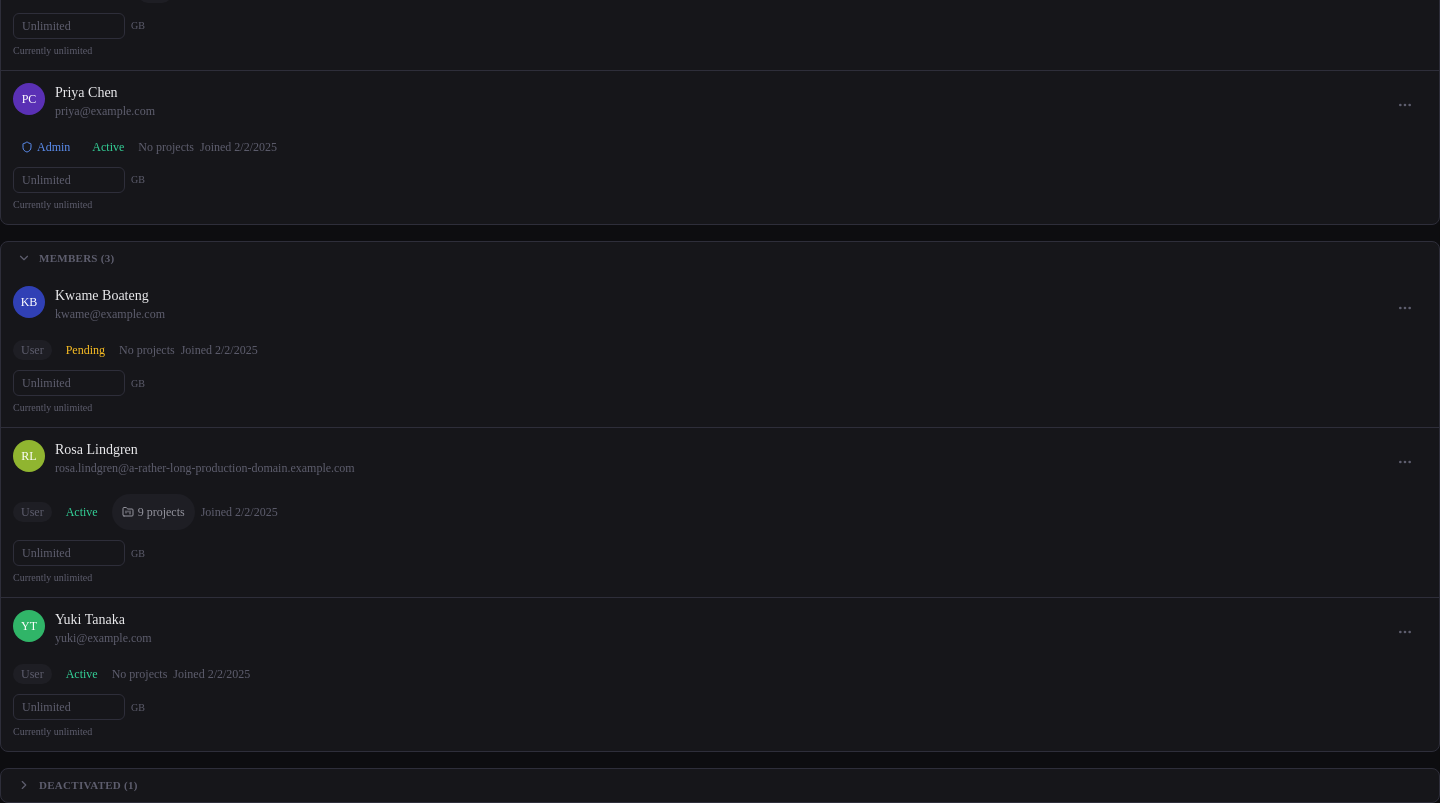
Scenario: every action the table row had is reachable from the card › Reactivate and Delete — for a deactivated user
(page scrolled)
Expected: the text "Rosa Lindgren" is shown, [55, 442, 138, 457]
Click the button "Deactivated (1)" at point(80, 785), box [17, 777, 1423, 794]
(page scrolled)
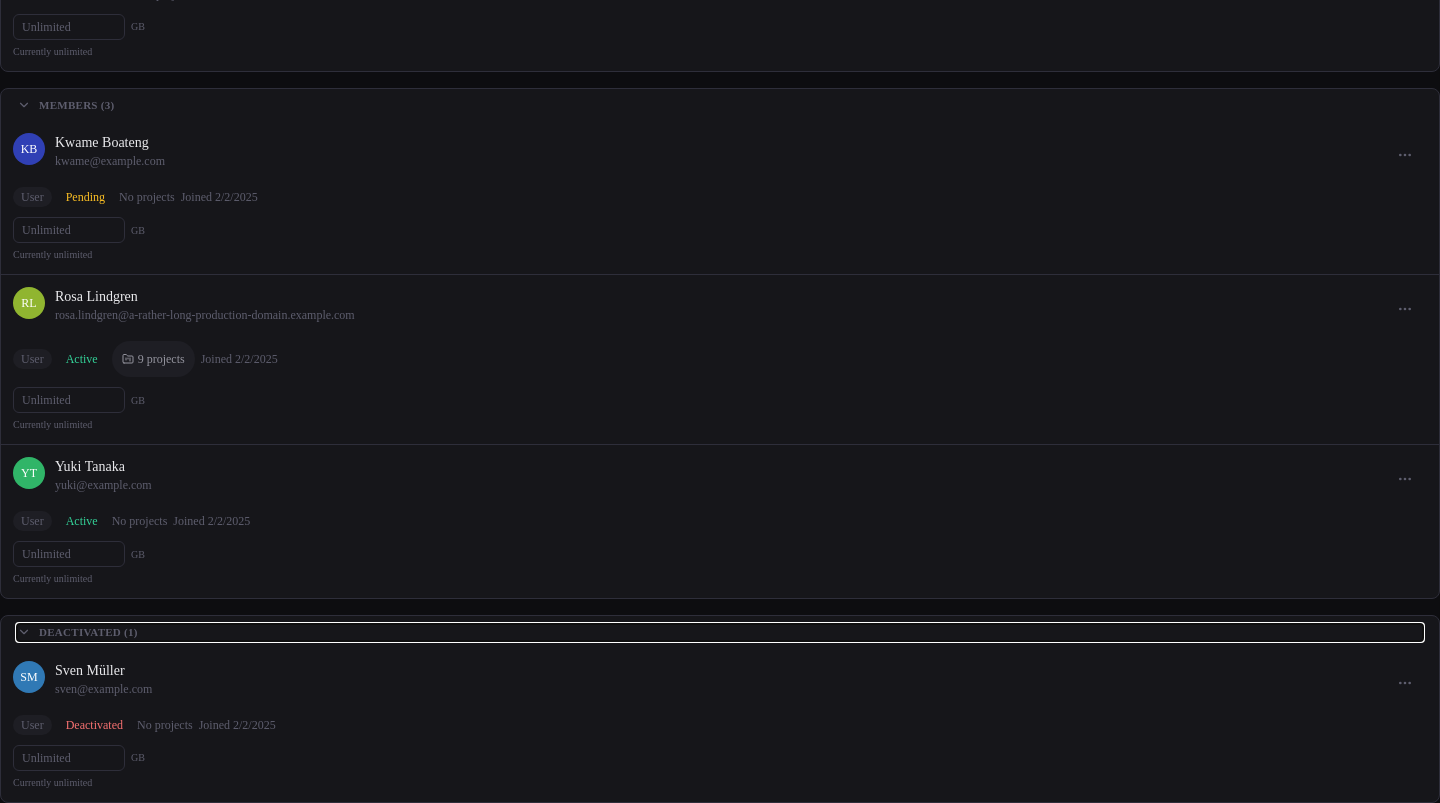
Expected: the text "Sven Müller" is shown, [55, 662, 125, 678]
Click the 4th button with test id "user-card-menu" at point(1405, 682), box [1383, 660, 1427, 704]
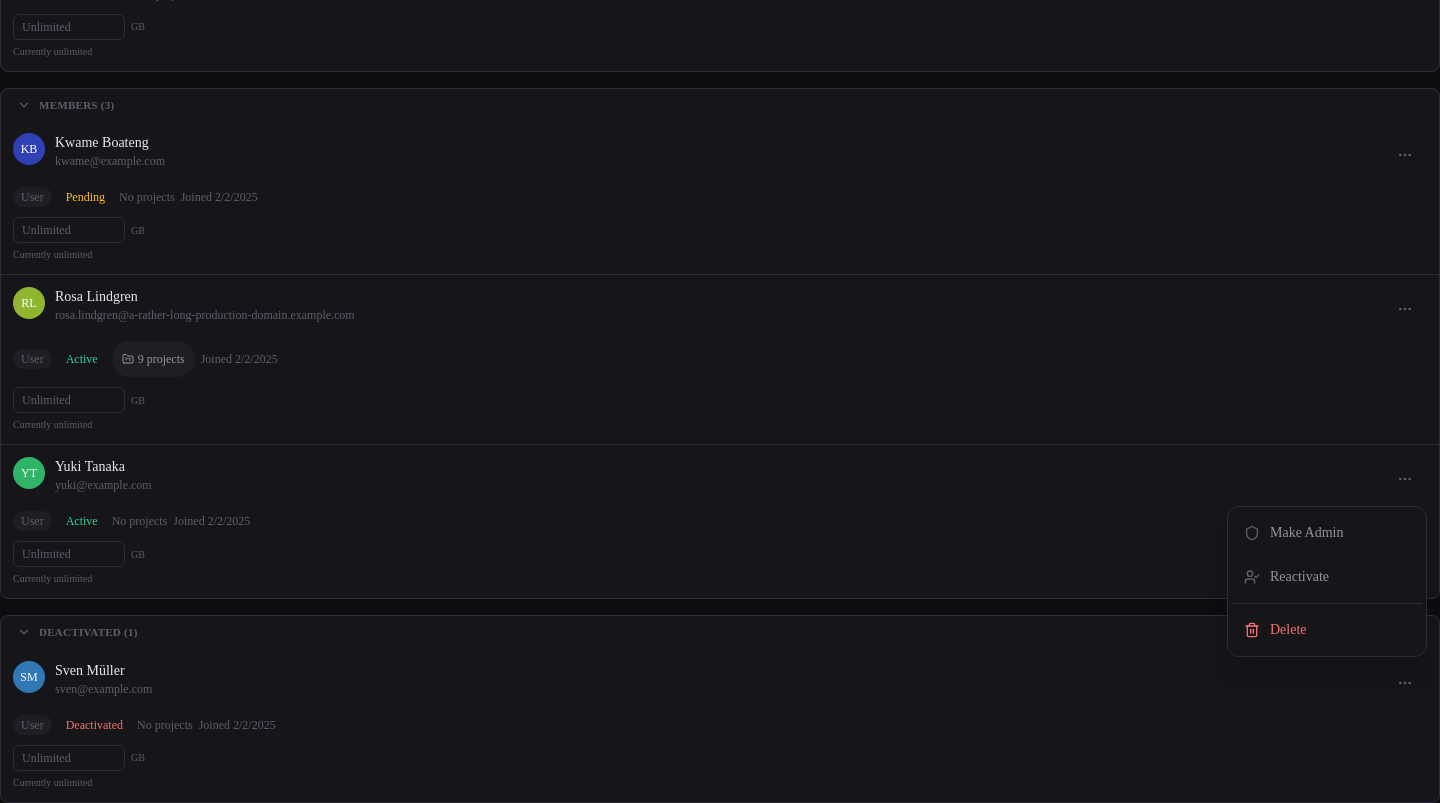
Expected: the menu item "Reactivate" is shown, [1244, 569, 1329, 585]
Click the menu item "Delete" at point(1275, 630), box [1244, 622, 1306, 638]
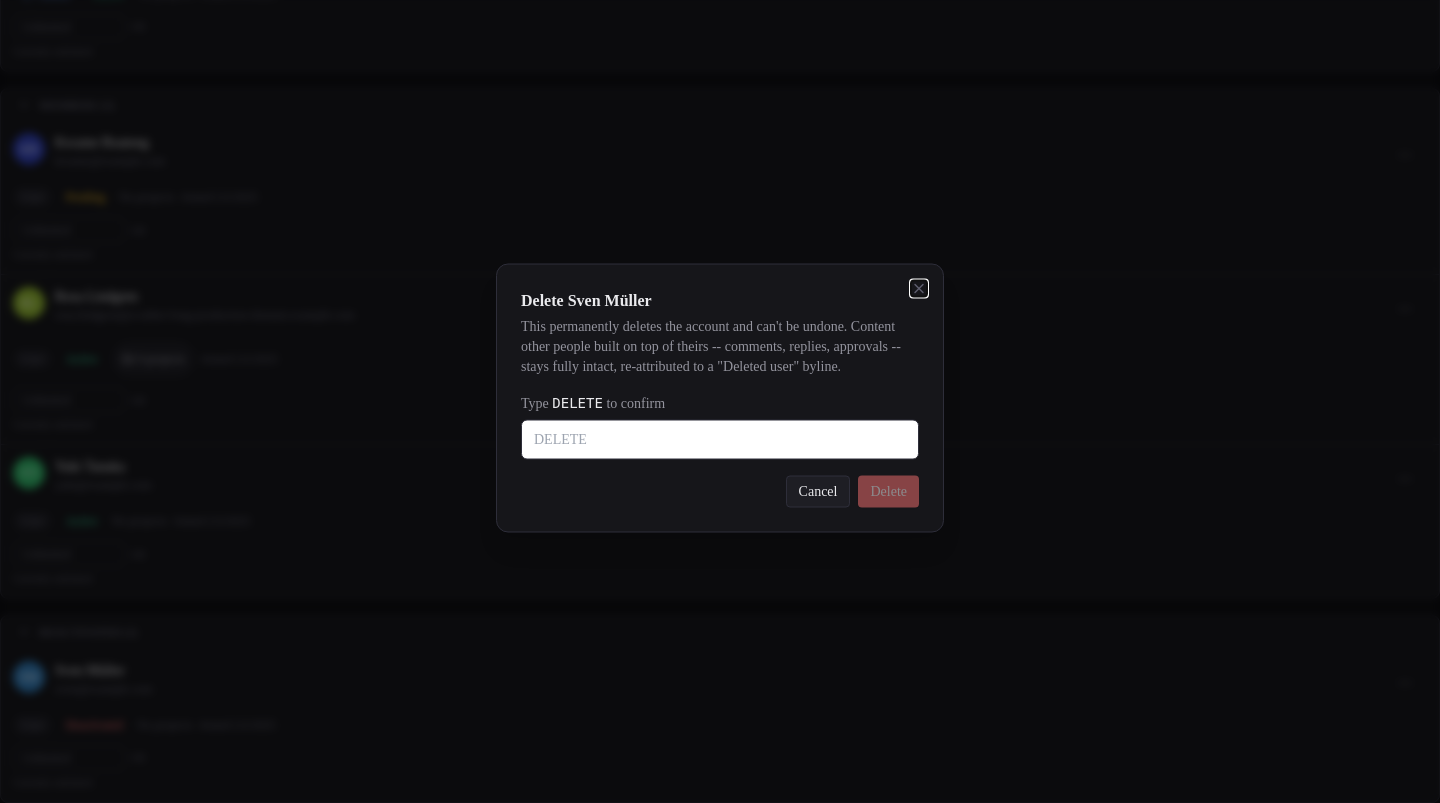
Expected: the dialog shows "Delete Sven Müller", [496, 264, 944, 532]
